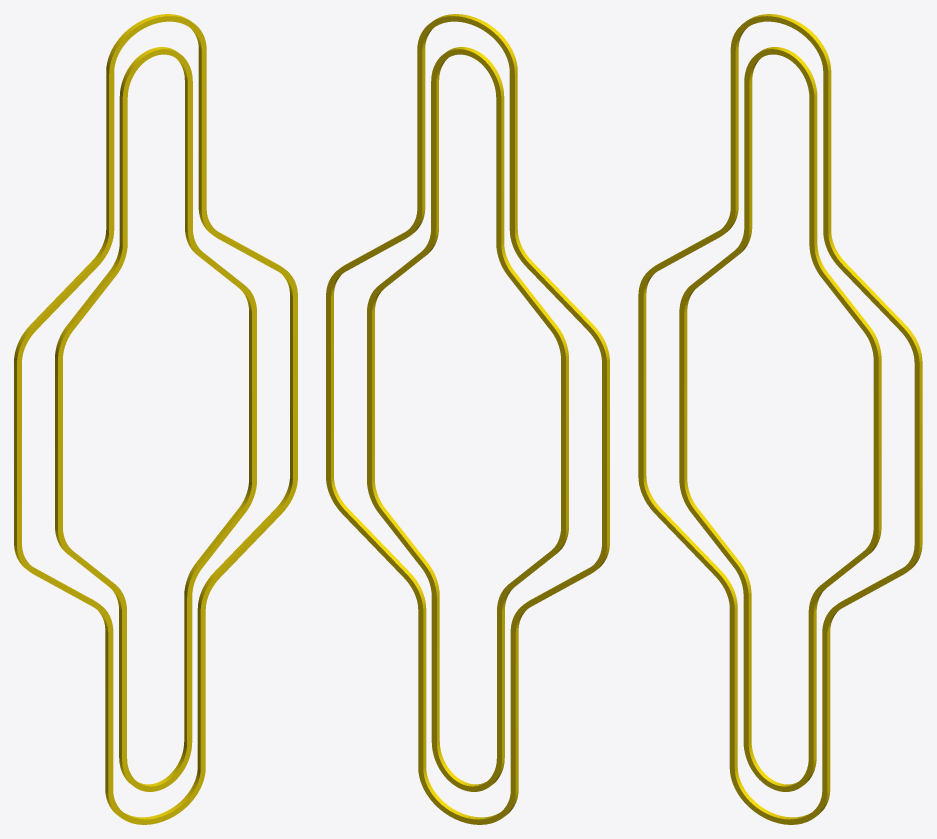
File: fancy vertical hole.fbx
3 renders of one model, left to right at view 1: azimuth 30°, elevation 25°; view 2: azimuth 150°, elevation 25°; view 3: azimuth 330°, elevation 25°, orthographic.
Visible parts, largest first — view 1: Sweep; view 2: Sweep; view 3: Sweep.
Part boxes in pixels (x1=…): Sweep: x1=14, y1=14, x2=297, y2=824; Sweep: x1=326, y1=14, x2=609, y2=824; Sweep: x1=638, y1=14, x2=922, y2=824.
Size of the model in its own units: 266 by 728 by 4.8.
